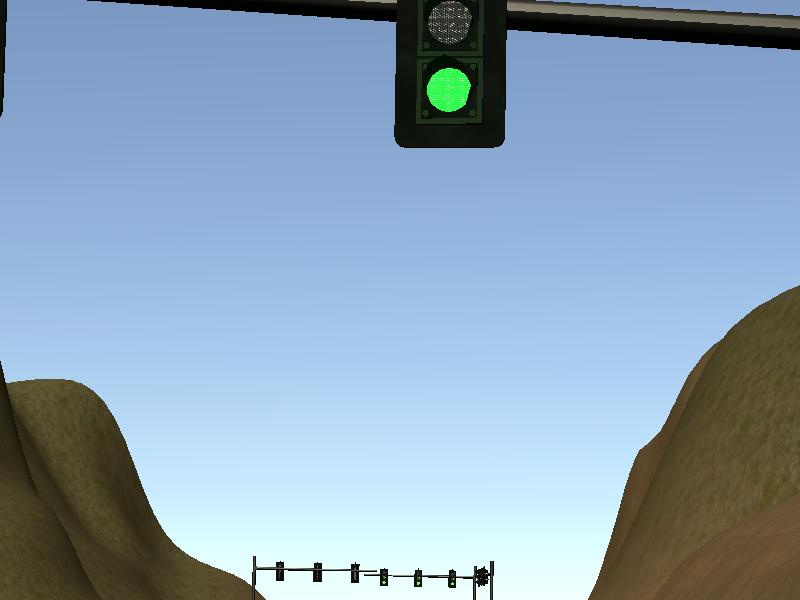green_light: (398, 1, 506, 146)
